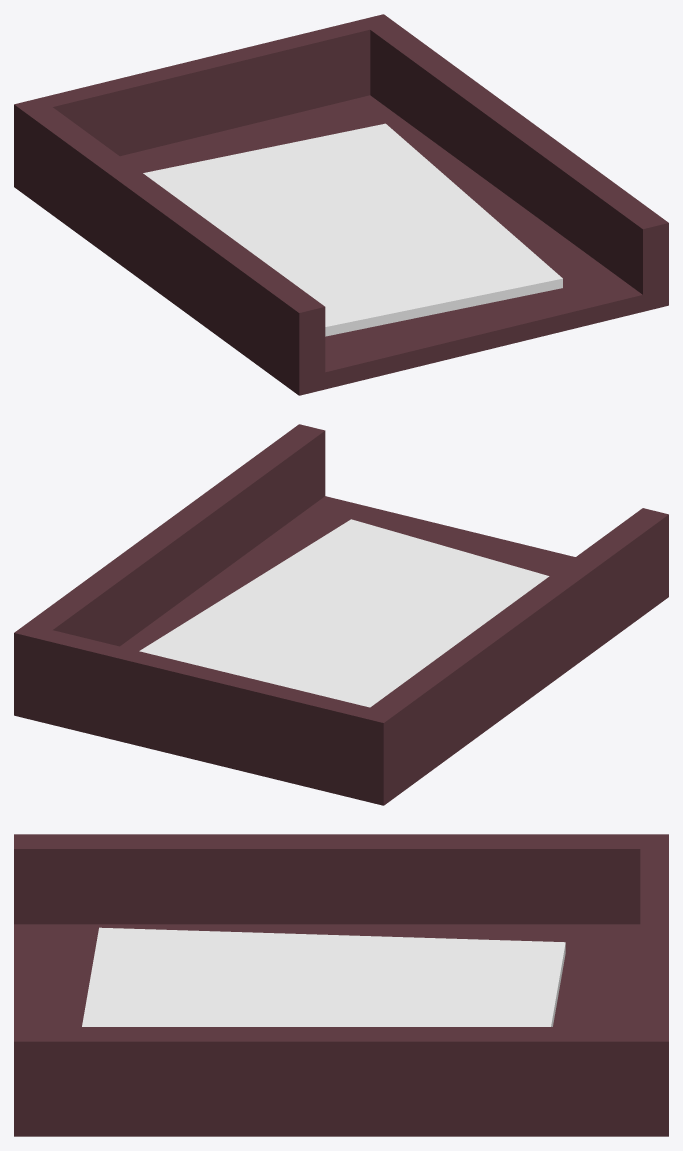
Rendered from paper tray 1.FBX.
3 renders of one model, top to bottom at view 1: azimuth 30°, elevation 25°; view 2: azimuth 150°, elevation 25°; view 3: azimuth 270°, elevation 25°, orthographic. The views are drawn at different scales.
Visible parts, largest first — view 1: Box001, Box002; view 2: Box001, Box002; view 3: Box001, Box002.
Part boxes in pixels (bbox=[...]): Box001: bbox=[14, 14, 668, 395]; Box002: bbox=[143, 123, 562, 336]; Box001: bbox=[14, 424, 668, 805]; Box002: bbox=[139, 519, 549, 707]; Box001: bbox=[14, 834, 668, 1136]; Box002: bbox=[82, 927, 565, 1026].
Size of the model in its own units: 210 by 44.89 by 281.
